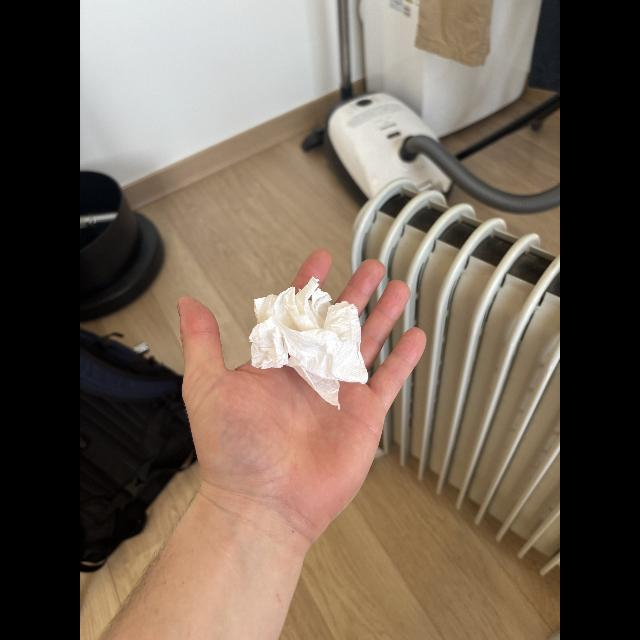Paper: (246, 274, 378, 414)
